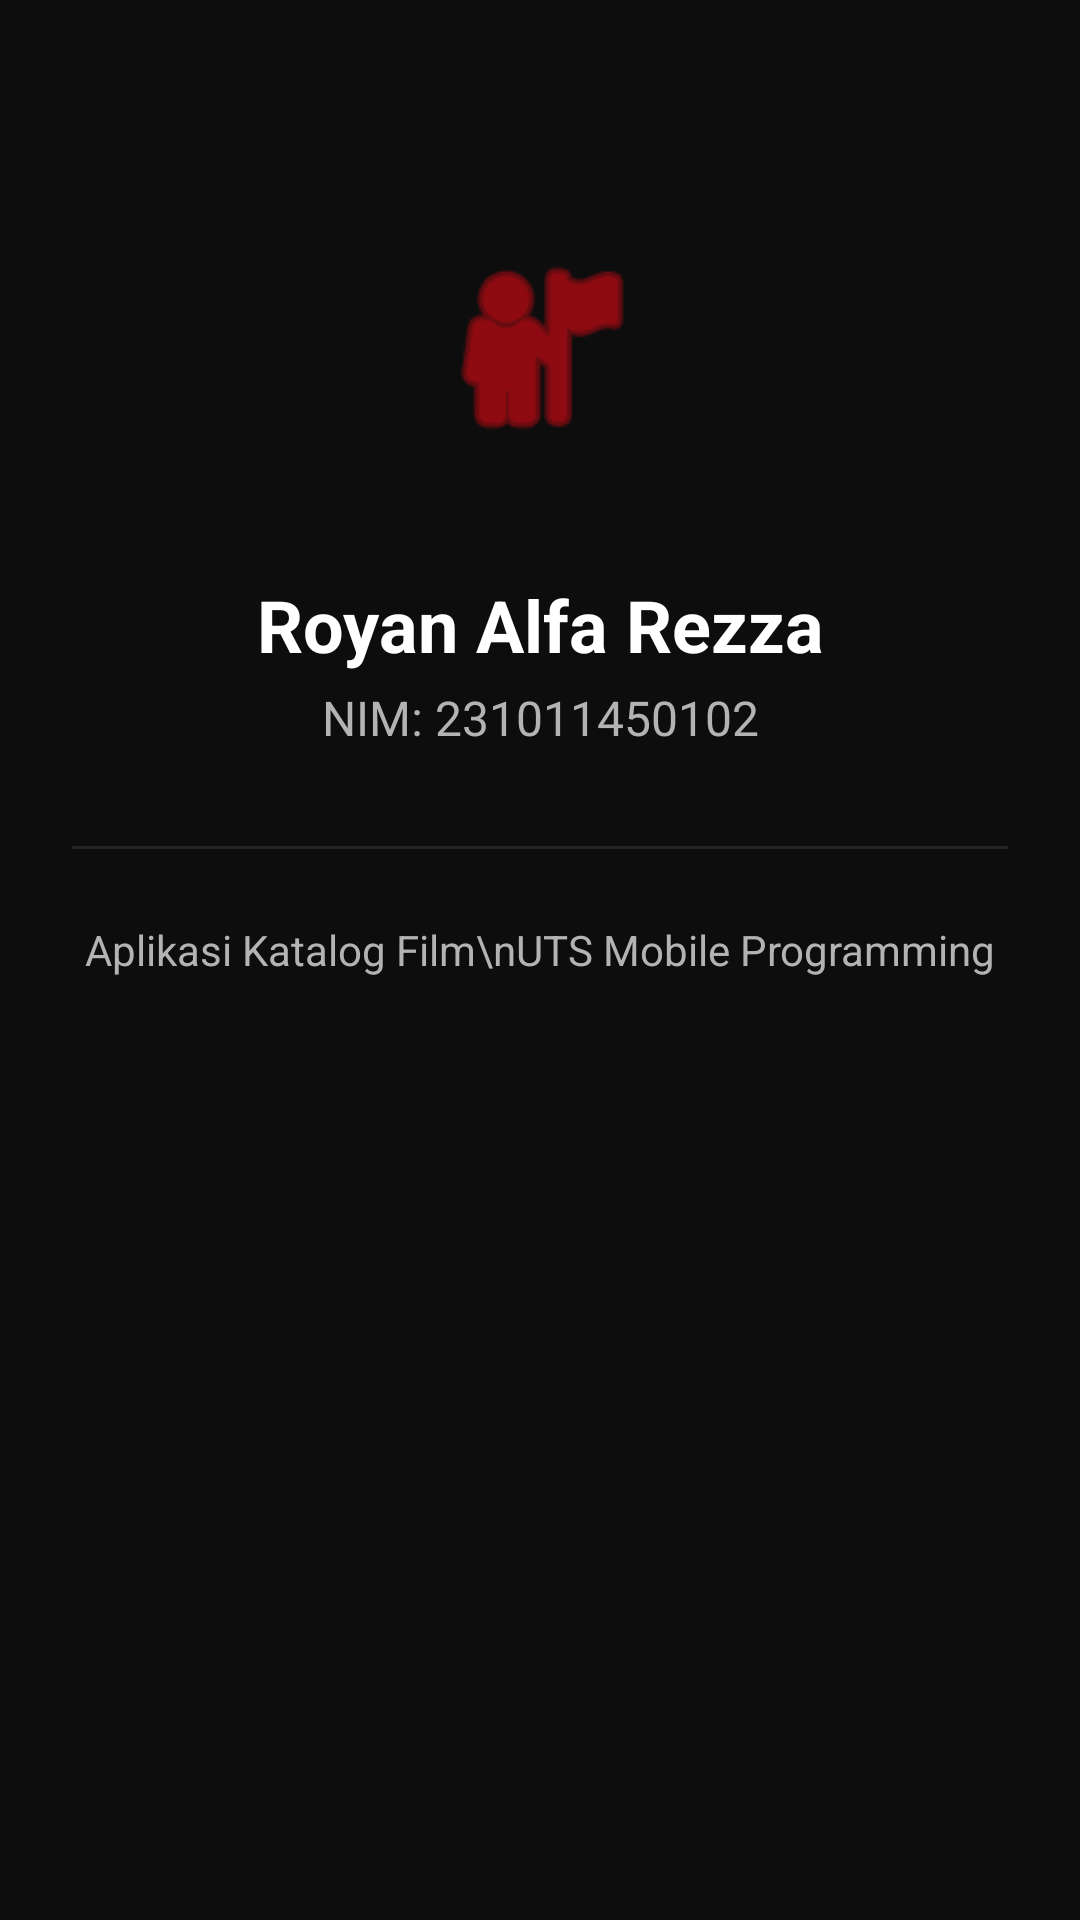

Icon bounding boxes for this 1080*1920 phone screenshot, format (x1, y1, x2, y2):
myplaces: (461, 267, 624, 429)
